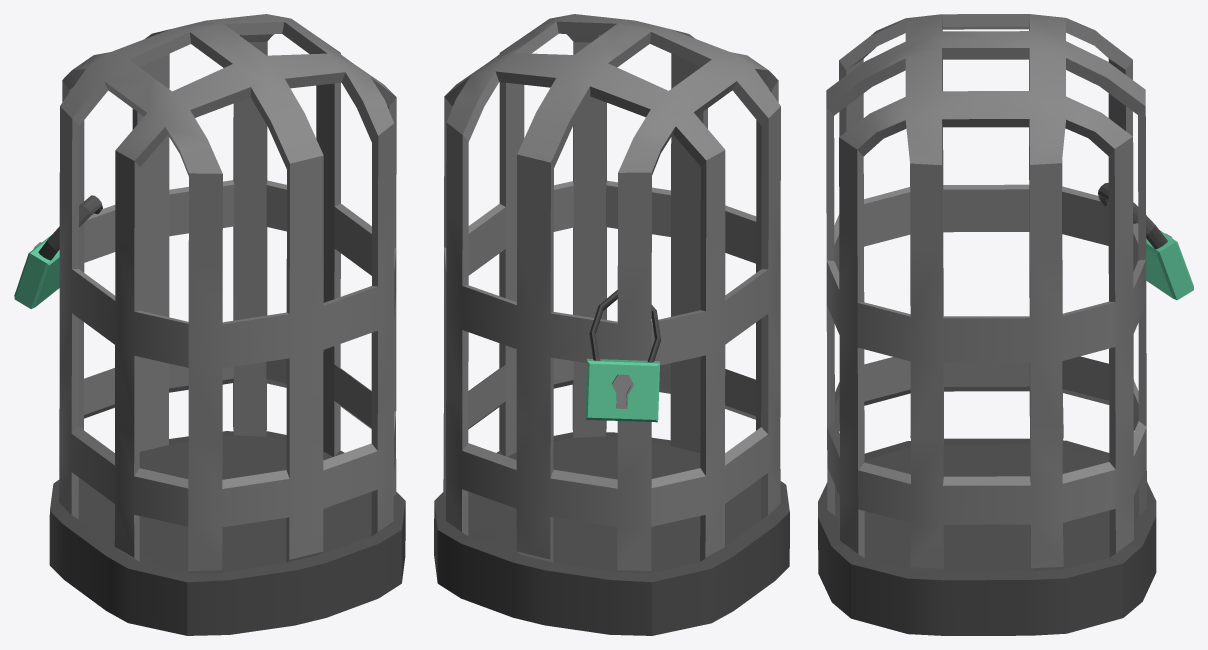
Rendered from SoulContainer.fbx.
3 renders of one model, left to right at view 1: azimuth 30°, elevation 25°; view 2: azimuth 150°, elevation 25°; view 3: azimuth 270°, elevation 25°, orthographic.
Parts seen in each view (by area): view 1: polySurface59; view 2: polySurface59; view 3: polySurface59.
Part boxes in pixels (<box>): polySurface59: <box>14,14,405,635</box>; polySurface59: <box>434,14,789,635</box>; polySurface59: <box>818,14,1193,635</box>.
Bounding box in the file's own units: 272 × 471 × 305.
